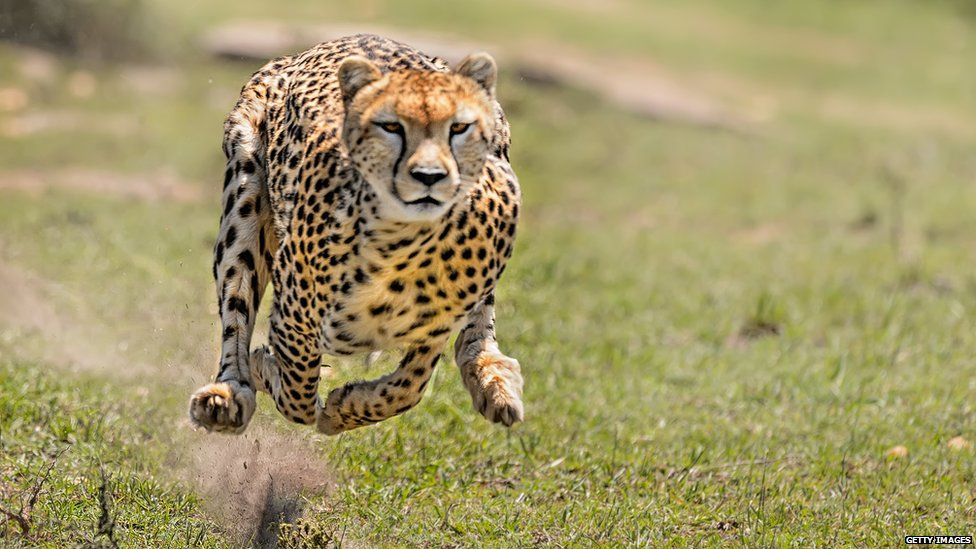cheetah: (329, 40, 506, 227)
